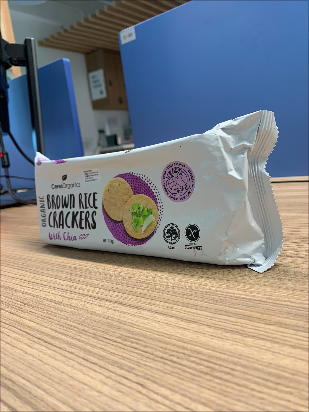Crackers_100-199g: (35, 160, 236, 247)
